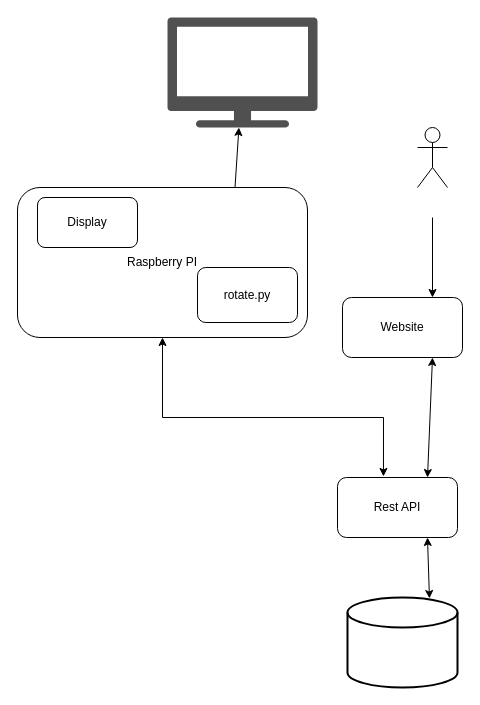
This 480x705 diagram has some shape labels left out. Each missing label, with the centre of its shape:
Actor: the point at 432,157
Photo Database: the point at 402,642
